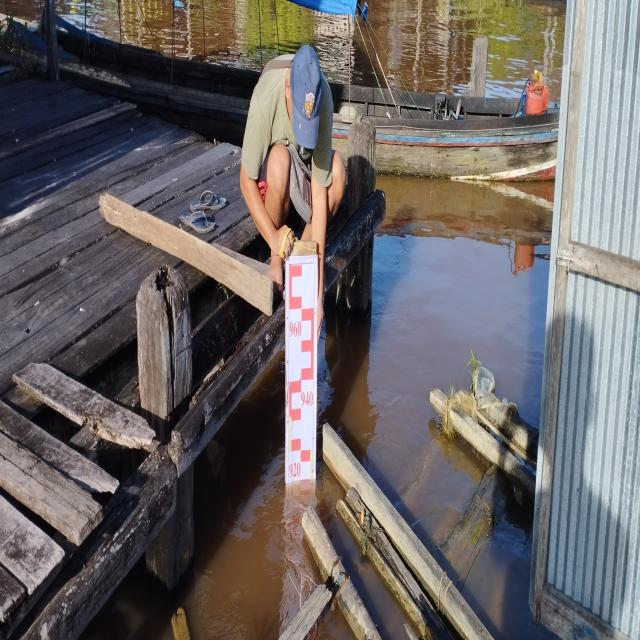ruler: (282, 248, 322, 487)
value: (288, 316, 303, 341), (300, 388, 315, 410)
